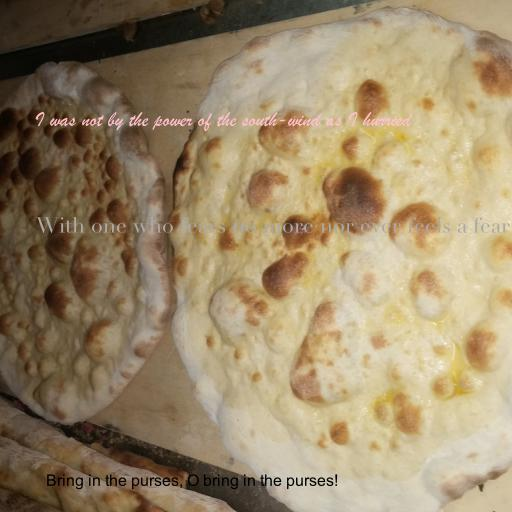Arial: (46, 474, 338, 490)
Brush Script MT: (35, 111, 411, 132)
Didot: (36, 216, 510, 234)
